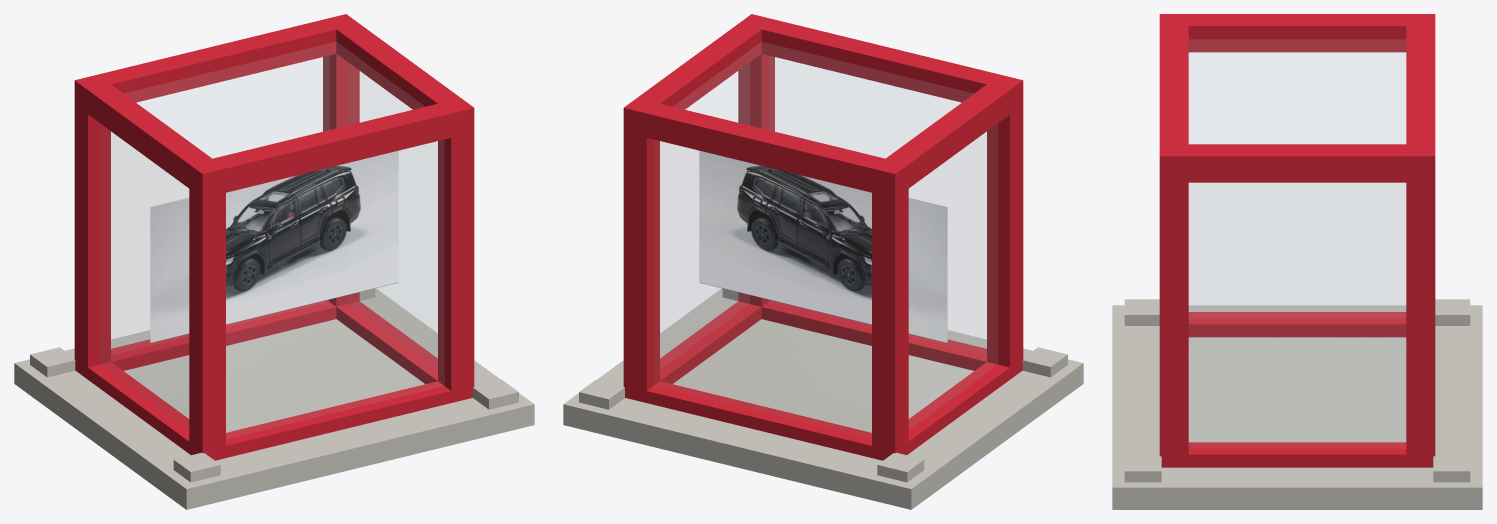
The model's file is land-cruiser-300gr-black.glb.
The picture shows the model from 3 angles, left to right: view 1: azimuth 30°, elevation 25°; view 2: azimuth 150°, elevation 25°; view 3: azimuth 270°, elevation 25°; orthographic projection. The views are drawn at different scales.
Bounding box in the file's own units: 0.105 × 0.0895 × 0.09.
4 materials, 1 textured.
